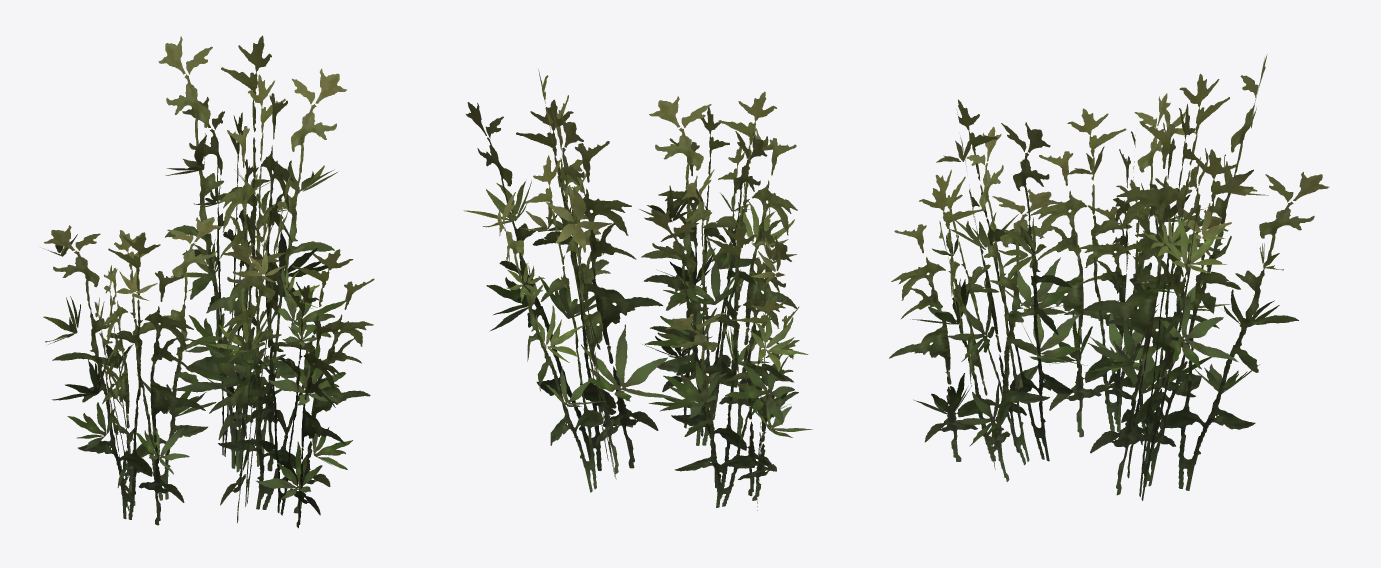
File: Grass2.fbx
3 views of the same model, side by side, from view 1: azimuth 30°, elevation 25°; view 2: azimuth 150°, elevation 25°; view 3: azimuth 270°, elevation 25° (orthographic). The views are drawn at different scales.
Visible parts, largest first — view 1: SM_cmn_mount_Grass_03a; view 2: SM_cmn_mount_Grass_03a; view 3: SM_cmn_mount_Grass_03a.
Boxes of the visible parts, x1,y1,x2,y2 form: SM_cmn_mount_Grass_03a: (43,35,374,528); SM_cmn_mount_Grass_03a: (463,69,812,510); SM_cmn_mount_Grass_03a: (889,54,1329,500).
Size of the model in its own units: 82.41 by 96.97 by 92.38.
